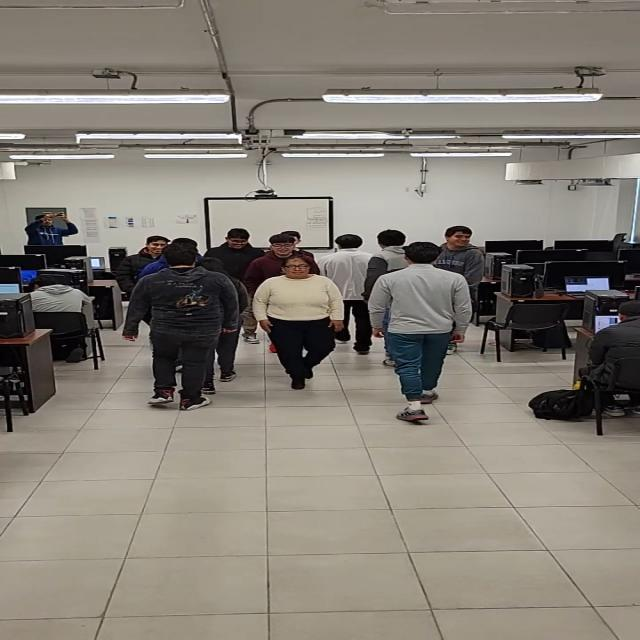Persona: (370, 240, 464, 427), (127, 242, 219, 412), (251, 251, 346, 401), (324, 232, 370, 355), (219, 225, 253, 346)
